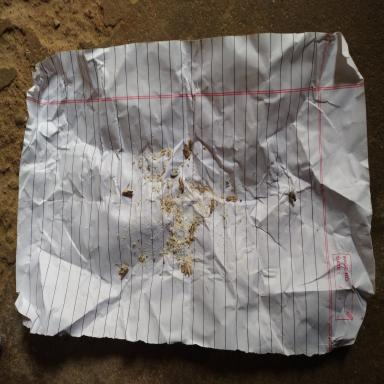pbw: (122, 181, 134, 195), (118, 266, 129, 280), (189, 222, 195, 242), (183, 144, 189, 158), (210, 198, 215, 214), (226, 195, 237, 202), (185, 260, 190, 274), (179, 177, 184, 191), (188, 139, 193, 152)
